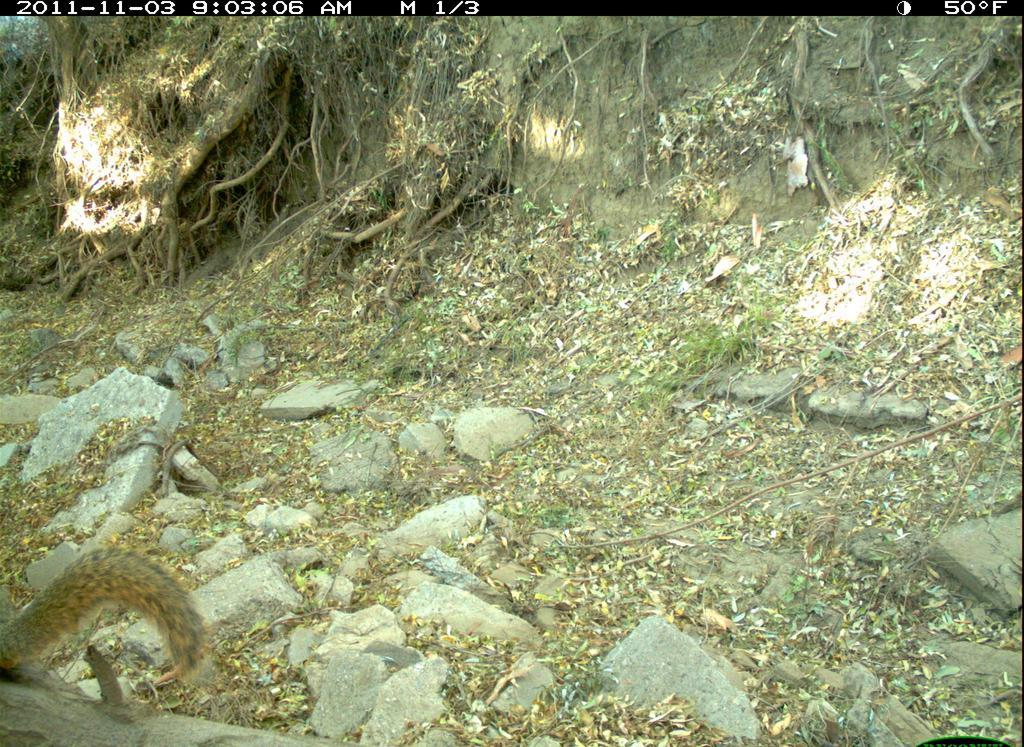squirrel: (1, 530, 225, 702)
